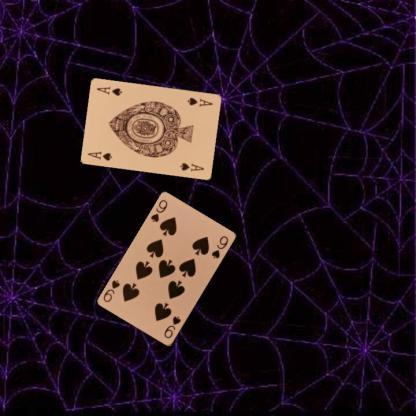9s: (161, 314, 182, 340), (148, 198, 169, 224)
As: (184, 94, 214, 108), (86, 148, 114, 162)
